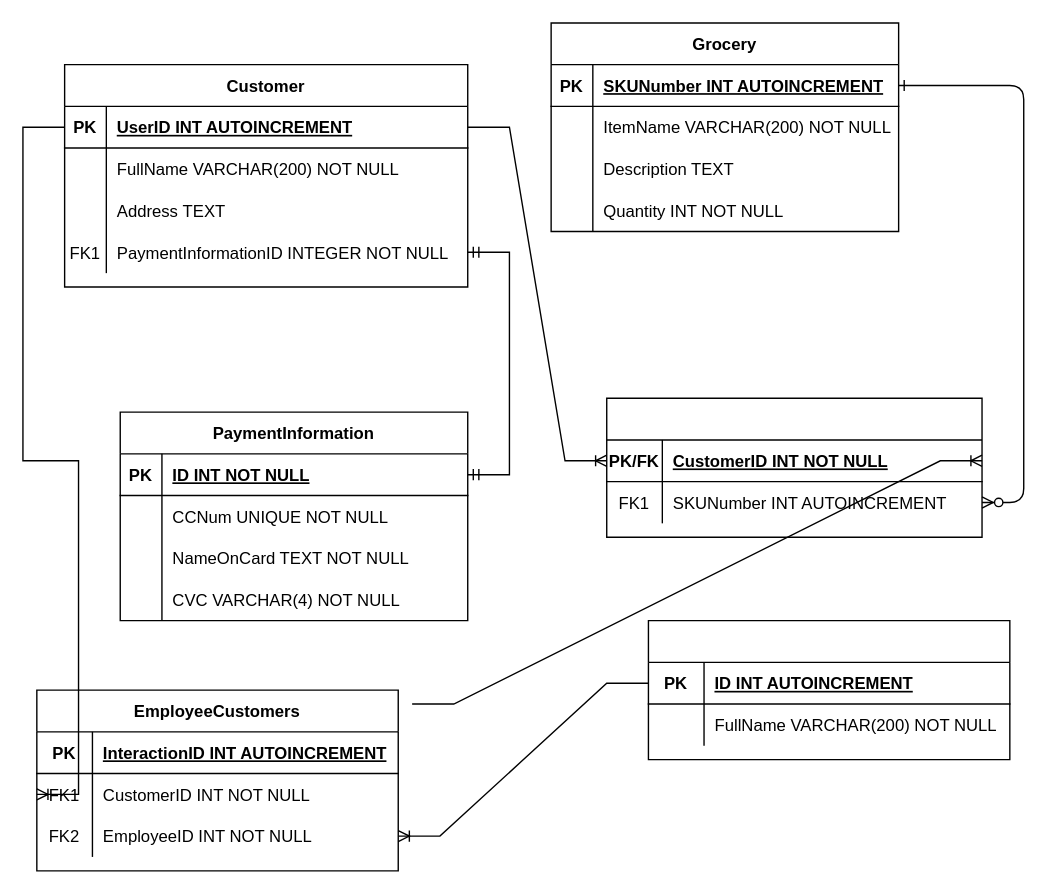
Some shapes in this 1047 by 894 pixel diagram are drawn without their labels. Each missing label, with the box of its shape:
Employee: (647, 619, 1010, 760)
ShoppingCartContents: (605, 397, 982, 537)
